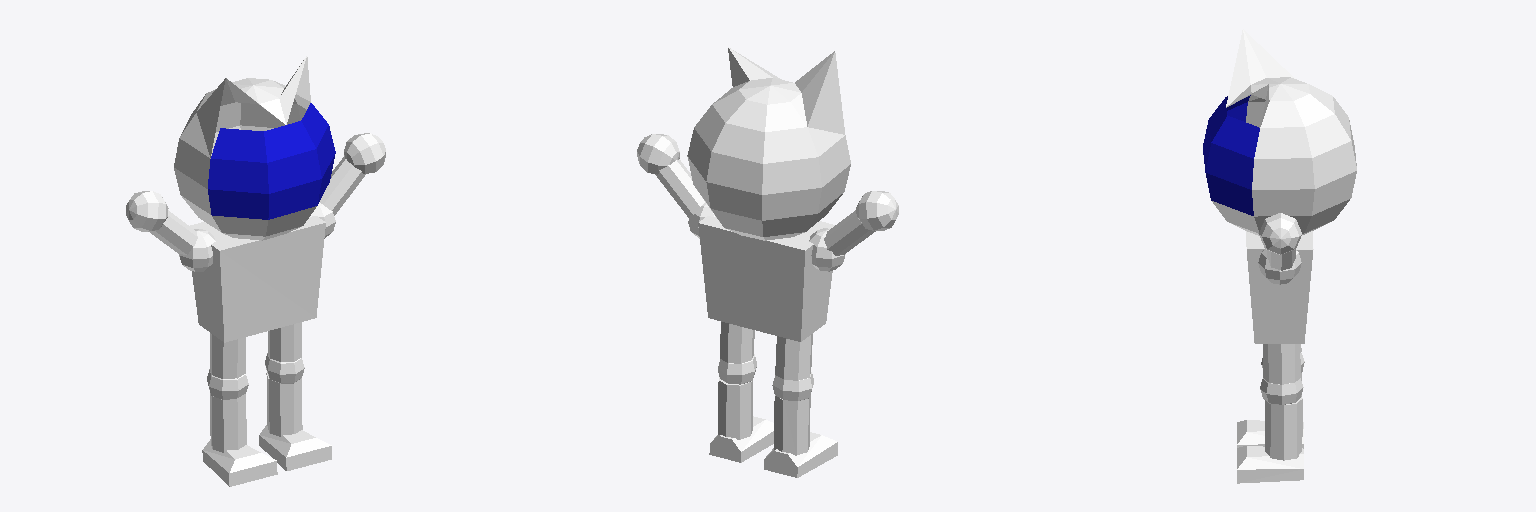
File: man.obj
The picture shows the model from 3 angles: view 1: azimuth 30°, elevation 25°; view 2: azimuth 150°, elevation 25°; view 3: azimuth 270°, elevation 25°; orthographic projection.
Parts seen in each view (by area): view 1: sphere1_suit, sphere1_visor, cube8_suit, cube8_copy9_suit, cylinder4_copy20_suit, cylinder4_copy21_suit, cylinder4_copy6_suit, sphere10_copy12_suit; view 2: sphere1_suit, cube8_suit, cube8_copy9_suit, cylinder4_copy20_suit, cylinder4_copy21_suit, cylinder4_copy6_suit, sphere10_copy12_suit; view 3: sphere1_suit, sphere1_visor, cube8_copy9_suit, sphere10_copy12_suit, cylinder4_copy20_suit, cube8_suit.
Part boxes in pixels (bbox=[...]): sphere1_suit: bbox=[174, 56, 335, 342]; sphere1_visor: bbox=[208, 103, 335, 219]; cube8_suit: bbox=[202, 393, 277, 486]; cube8_copy9_suit: bbox=[259, 373, 331, 470]; cylinder4_copy20_suit: bbox=[320, 133, 385, 215]; cylinder4_copy21_suit: bbox=[126, 191, 197, 254]; cylinder4_copy6_suit: bbox=[207, 333, 248, 399]; sphere10_copy12_suit: bbox=[265, 322, 304, 383]; sphere1_suit: bbox=[687, 47, 850, 341]; cube8_suit: bbox=[764, 395, 837, 477]; cube8_copy9_suit: bbox=[709, 377, 773, 462]; cylinder4_copy20_suit: bbox=[637, 134, 704, 217]; cylinder4_copy21_suit: bbox=[824, 191, 898, 255]; cylinder4_copy6_suit: bbox=[772, 334, 813, 400]; sphere10_copy12_suit: bbox=[718, 322, 756, 384]; sphere1_suit: bbox=[1212, 29, 1356, 343]; sphere1_visor: bbox=[1203, 95, 1259, 215]; cube8_copy9_suit: bbox=[1237, 397, 1303, 483]; sphere10_copy12_suit: bbox=[1260, 344, 1303, 404]; cylinder4_copy20_suit: bbox=[1259, 213, 1301, 270]; cube8_suit: bbox=[1237, 373, 1303, 448].
Size of the model in its own units: 0.657 by 1 by 0.3444.